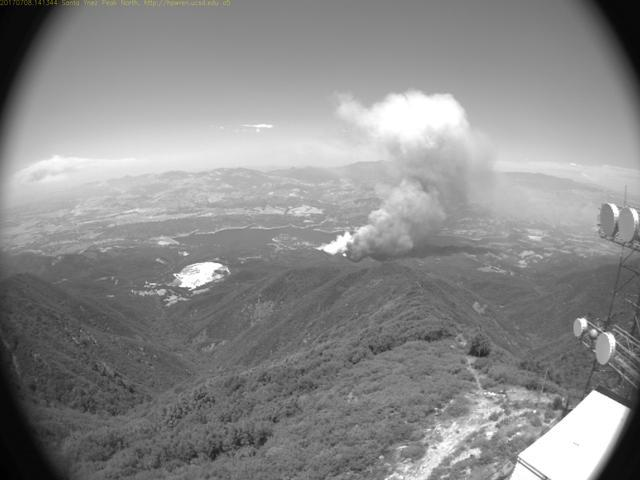smoke: (318, 91, 497, 259)
